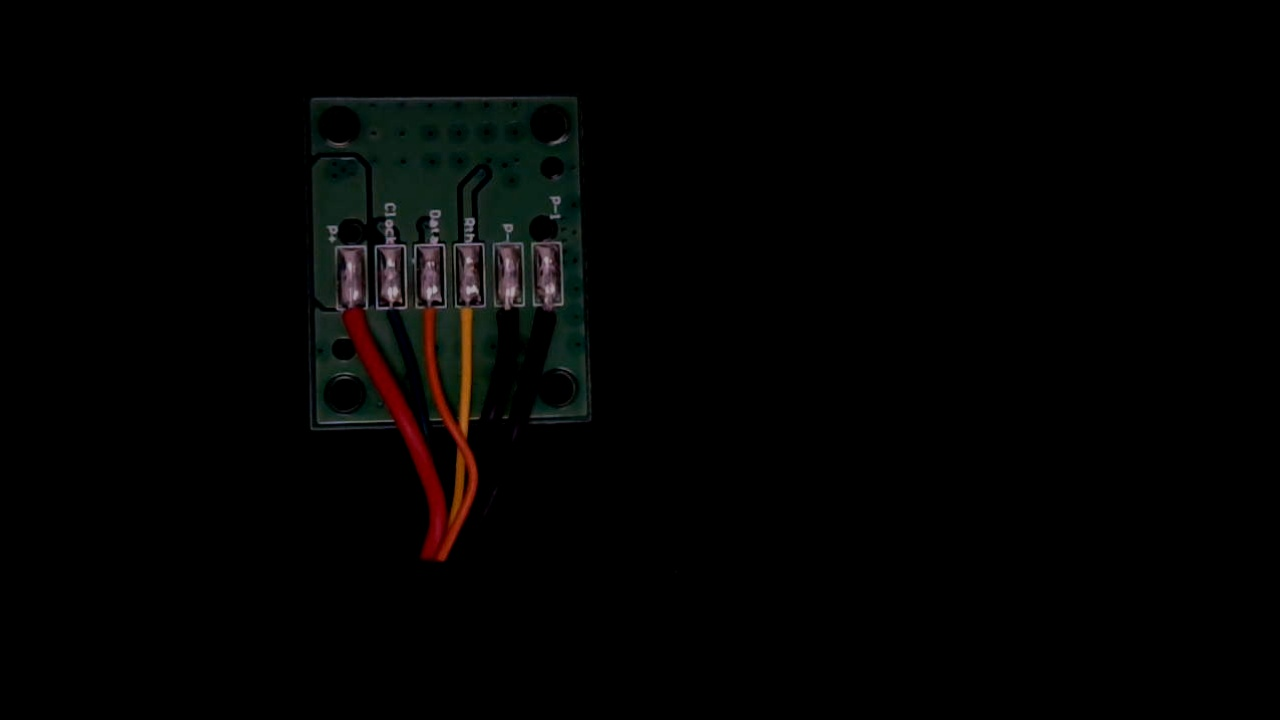Black: (493, 290, 523, 352)
Black1: (533, 287, 566, 354)
Green: (376, 292, 409, 347)
Orange: (415, 291, 448, 354)
Red: (336, 293, 370, 363)
Yellow: (453, 291, 486, 355)
